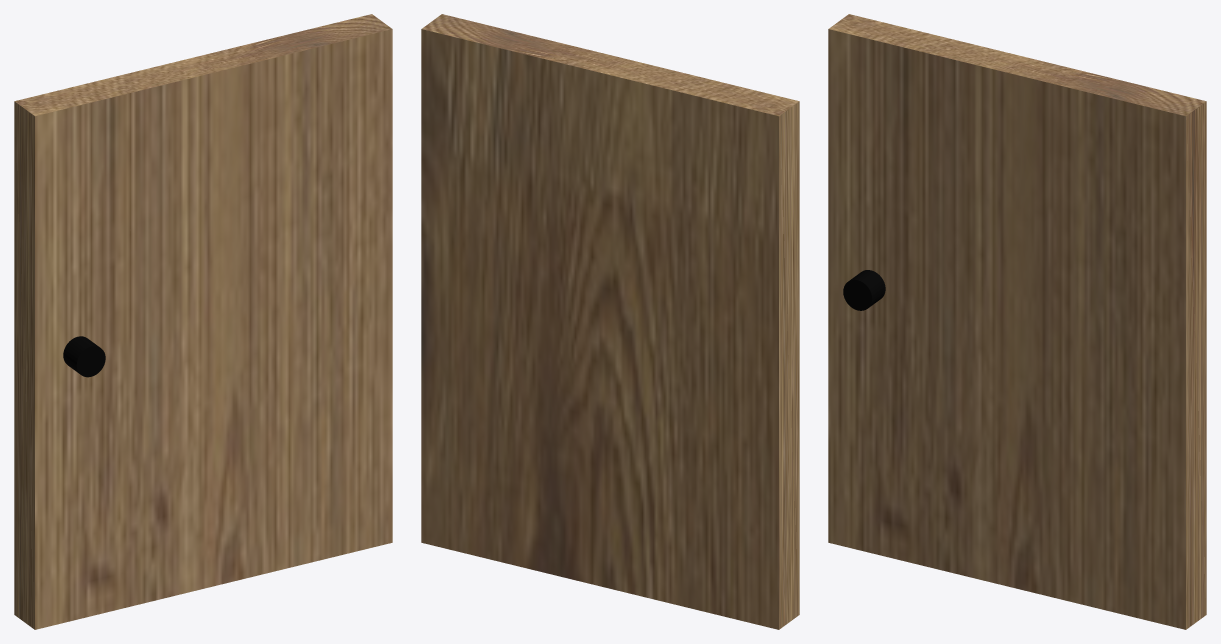
Rendered from крышка шкафчика1.fbx.
3 renders of one model, left to right at view 1: azimuth 30°, elevation 25°; view 2: azimuth 150°, elevation 25°; view 3: azimuth 330°, elevation 25°, orthographic.
Visible parts, largest first — view 1: Cylinder; view 2: Cylinder; view 3: Cylinder.
Boxes of the visible parts, x1,y1,x2,y2 form: Cylinder: [14, 14, 392, 629]; Cylinder: [421, 14, 799, 629]; Cylinder: [828, 14, 1206, 629].
Size of the model in its own units: 358 by 491 by 58.93.
Materials: 2 (1 with a texture image).
